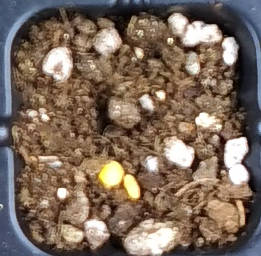chilli seed: (98, 160, 123, 186), (123, 173, 141, 199)
